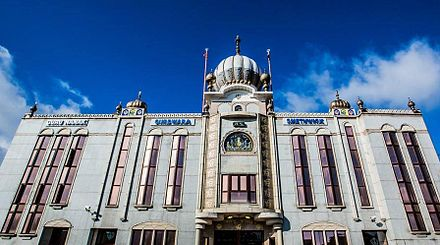Gurdwara: (15, 41, 433, 242)
